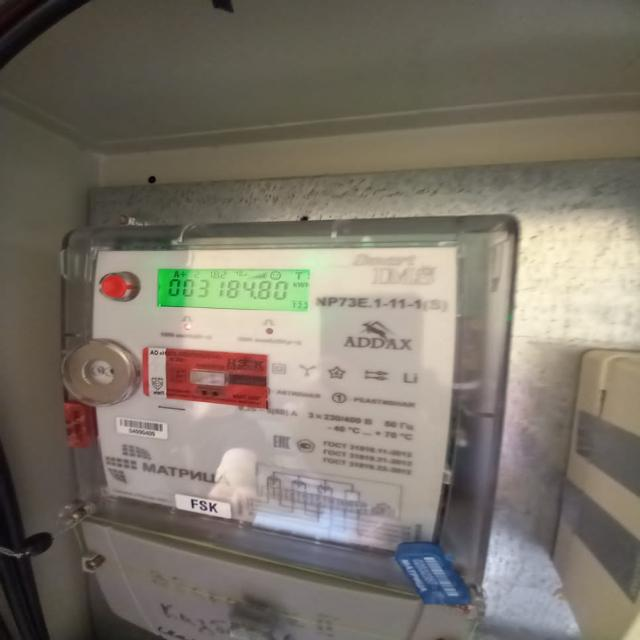Display: (155, 264, 314, 315)
meter_matrica: (54, 184, 518, 640)
meter_number: (113, 415, 168, 441)
seal_elso: (220, 595, 294, 640)
seal_imp: (139, 343, 272, 408)
